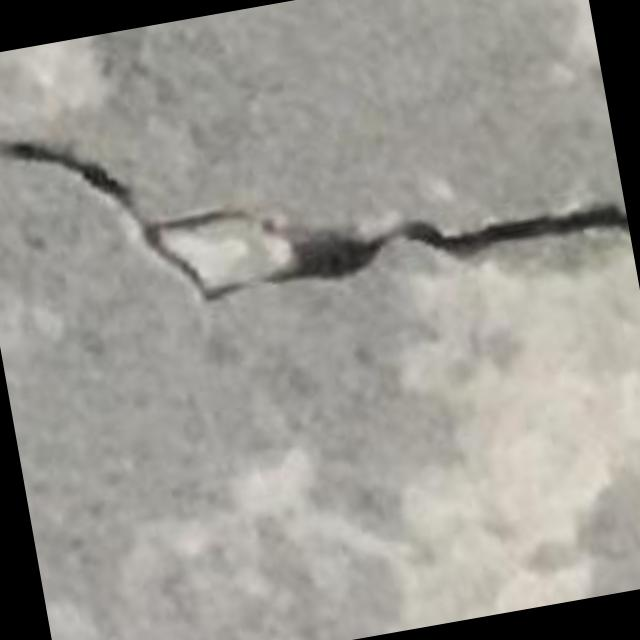crack: (0, 140, 629, 300)
peeling plaster: (132, 249, 639, 634)
